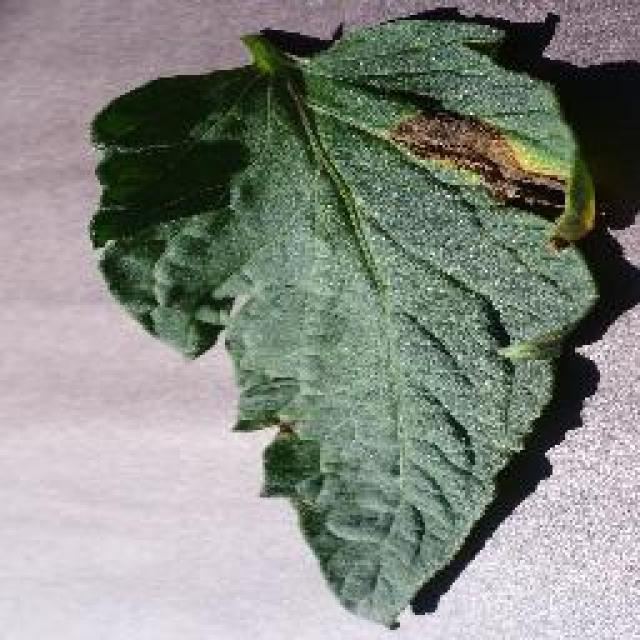leaf blight: (91, 12, 606, 629)
